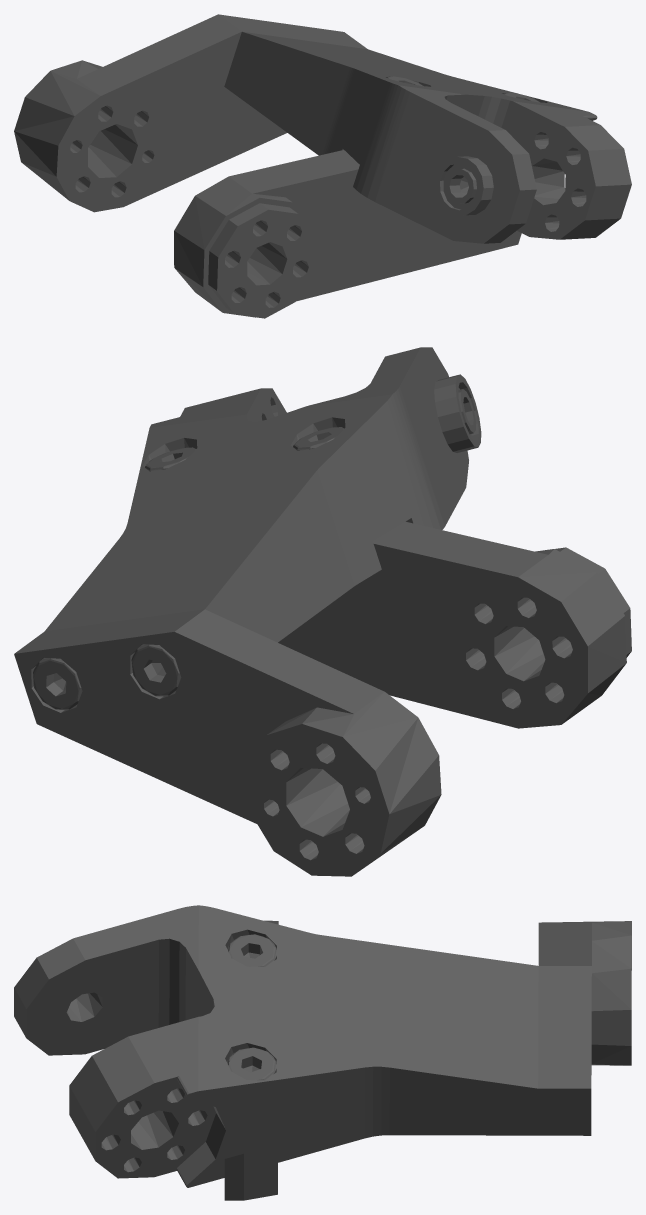
Rendered from thumb1a.dae.
3 renders of one model, top to bottom at view 1: azimuth 30°, elevation 25°; view 2: azimuth 150°, elevation 25°; view 3: azimuth 270°, elevation 25°, orthographic. The views are drawn at different scales.
Parts seen in each view (by area): view 1: node; view 2: node; view 3: node.
Boxes of the visible parts, bbox=[...] form: node: bbox=[14, 14, 631, 318]; node: bbox=[14, 347, 631, 876]; node: bbox=[14, 905, 631, 1200].
Size of the model in its own units: 0.0373 by 0.0189 by 0.0464.
1 material, 1 textured.
